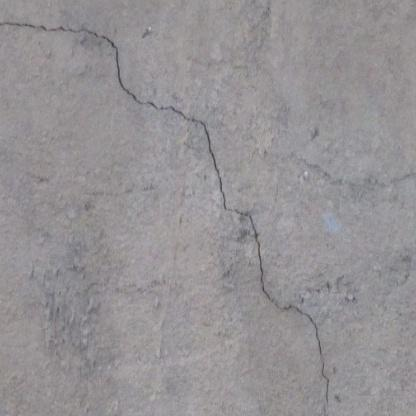Cracks: (0, 17, 338, 416)
